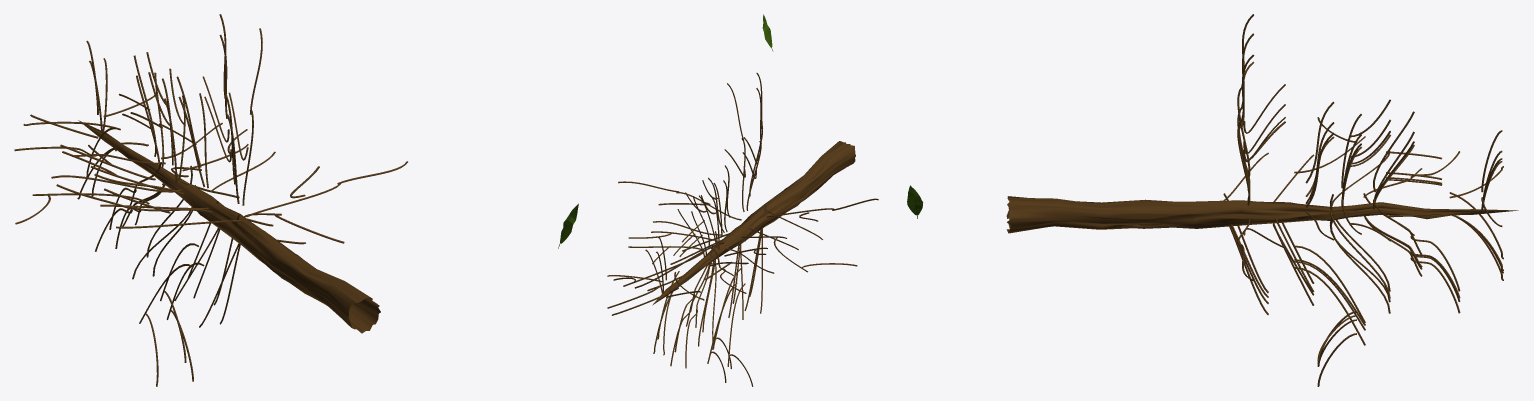
Rendered from PAINT TREE .fbx.
3 renders of one model, left to right at view 1: azimuth 30°, elevation 25°; view 2: azimuth 150°, elevation 25°; view 3: azimuth 270°, elevation 25°, orthographic. The views are drawn at different scales.
Parts seen in each view (by area): view 1: BézierCurve.031, BézierCurve.086; view 2: BézierCurve.031, BézierCurve.086; view 3: BézierCurve.031, BézierCurve.086.
Boxes of the visible parts, bbox=[...] form: BézierCurve.031: bbox=[14, 14, 407, 386]; BézierCurve.086: bbox=[78, 120, 380, 333]; BézierCurve.031: bbox=[607, 73, 878, 386]; BézierCurve.086: bbox=[652, 141, 855, 305]; BézierCurve.031: bbox=[1223, 14, 1503, 386]; BézierCurve.086: bbox=[1006, 196, 1518, 233].
Size of the model in its own units: 2360 by 2489 by 3745.
